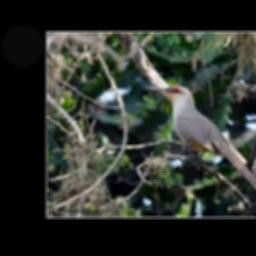Cuckoo: (143, 83, 256, 207)
